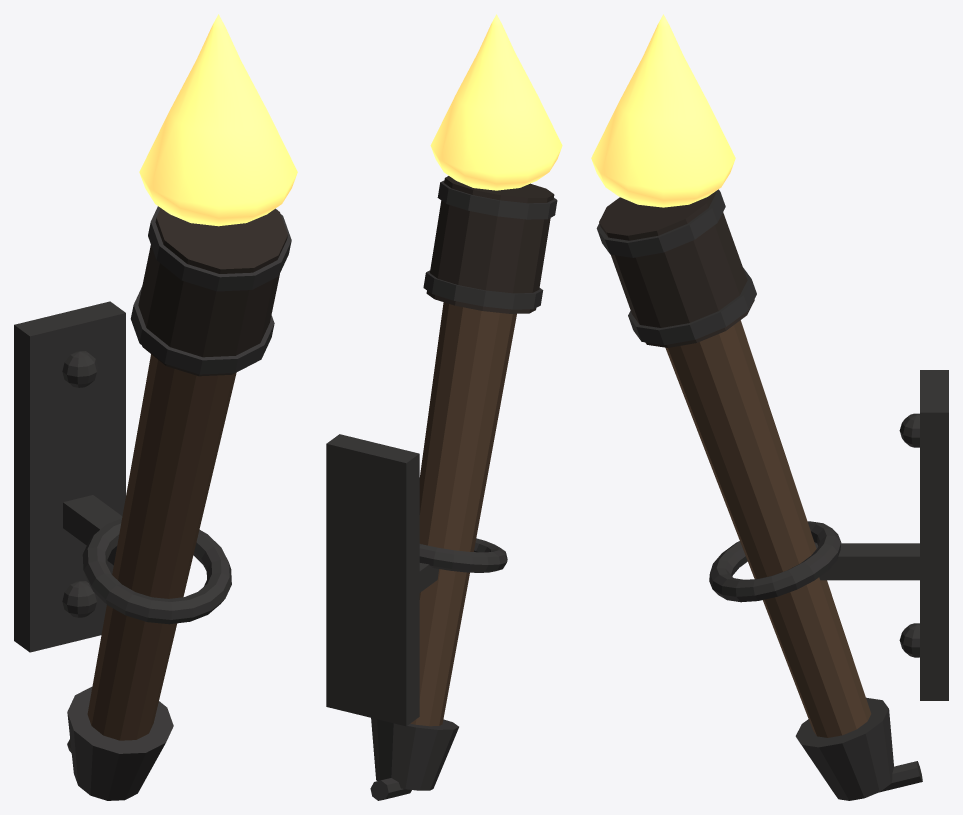
Rendered from antorcha.glb.
3 views of the same model, side by side, from view 1: azimuth 30°, elevation 25°; view 2: azimuth 150°, elevation 25°; view 3: azimuth 270°, elevation 25° (orthographic). The views are drawn at different scales.
Parts seen in each view (by area): view 1: Soporte_placa, Mango, Llama, Mango_cabeza, Soporte_anilla, Soporte_copa, Soporte_fleje.001, Soporte_fleje, Soporte_brazo, Soporte_clavo, Soporte_clavo.001; view 2: Soporte_placa, Mango, Llama, Mango_cabeza, Soporte_copa, Soporte_anilla, Soporte_fleje.001, Soporte_fleje, Soporte_puntal; view 3: Mango, Llama, Mango_cabeza, Soporte_placa, Soporte_copa, Soporte_anilla, Soporte_brazo, Soporte_fleje, Soporte_fleje.001, Soporte_puntal.
Boxes of the visible parts, x1,y1,x2,y2 form: Soporte_placa: (14, 301, 125, 652); Mango: (87, 354, 236, 740); Llama: (139, 14, 297, 226); Mango_cabeza: (138, 208, 287, 376); Soporte_anilla: (82, 518, 231, 624); Soporte_copa: (67, 687, 173, 800); Soporte_fleje.001: (148, 206, 291, 291); Soporte_fleje: (130, 287, 274, 374); Soporte_brazo: (63, 495, 122, 565); Soporte_clavo: (62, 351, 98, 387); Soporte_clavo.001: (62, 581, 98, 617); Soporte_placa: (326, 434, 419, 726); Mango: (410, 302, 516, 726); Llama: (430, 14, 562, 190); Mango_cabeza: (426, 176, 554, 313); Soporte_copa: (371, 718, 458, 790); Soporte_anilla: (419, 538, 507, 572); Soporte_fleje.001: (437, 180, 557, 219); Soporte_fleje: (423, 270, 543, 309); Soporte_puntal: (370, 778, 411, 800); Mango: (665, 320, 871, 737); Llama: (591, 14, 735, 207); Mango_cabeza: (599, 191, 754, 347); Soporte_placa: (920, 370, 948, 700); Soporte_copa: (795, 697, 893, 800); Soporte_anilla: (709, 521, 841, 602); Soporte_brazo: (815, 543, 919, 580); Soporte_fleje: (628, 268, 756, 345); Soporte_fleje.001: (596, 189, 725, 257); Soporte_puntal: (879, 761, 922, 792).
Size of the model in its own units: 0.1 by 0.5957 by 0.2473.
